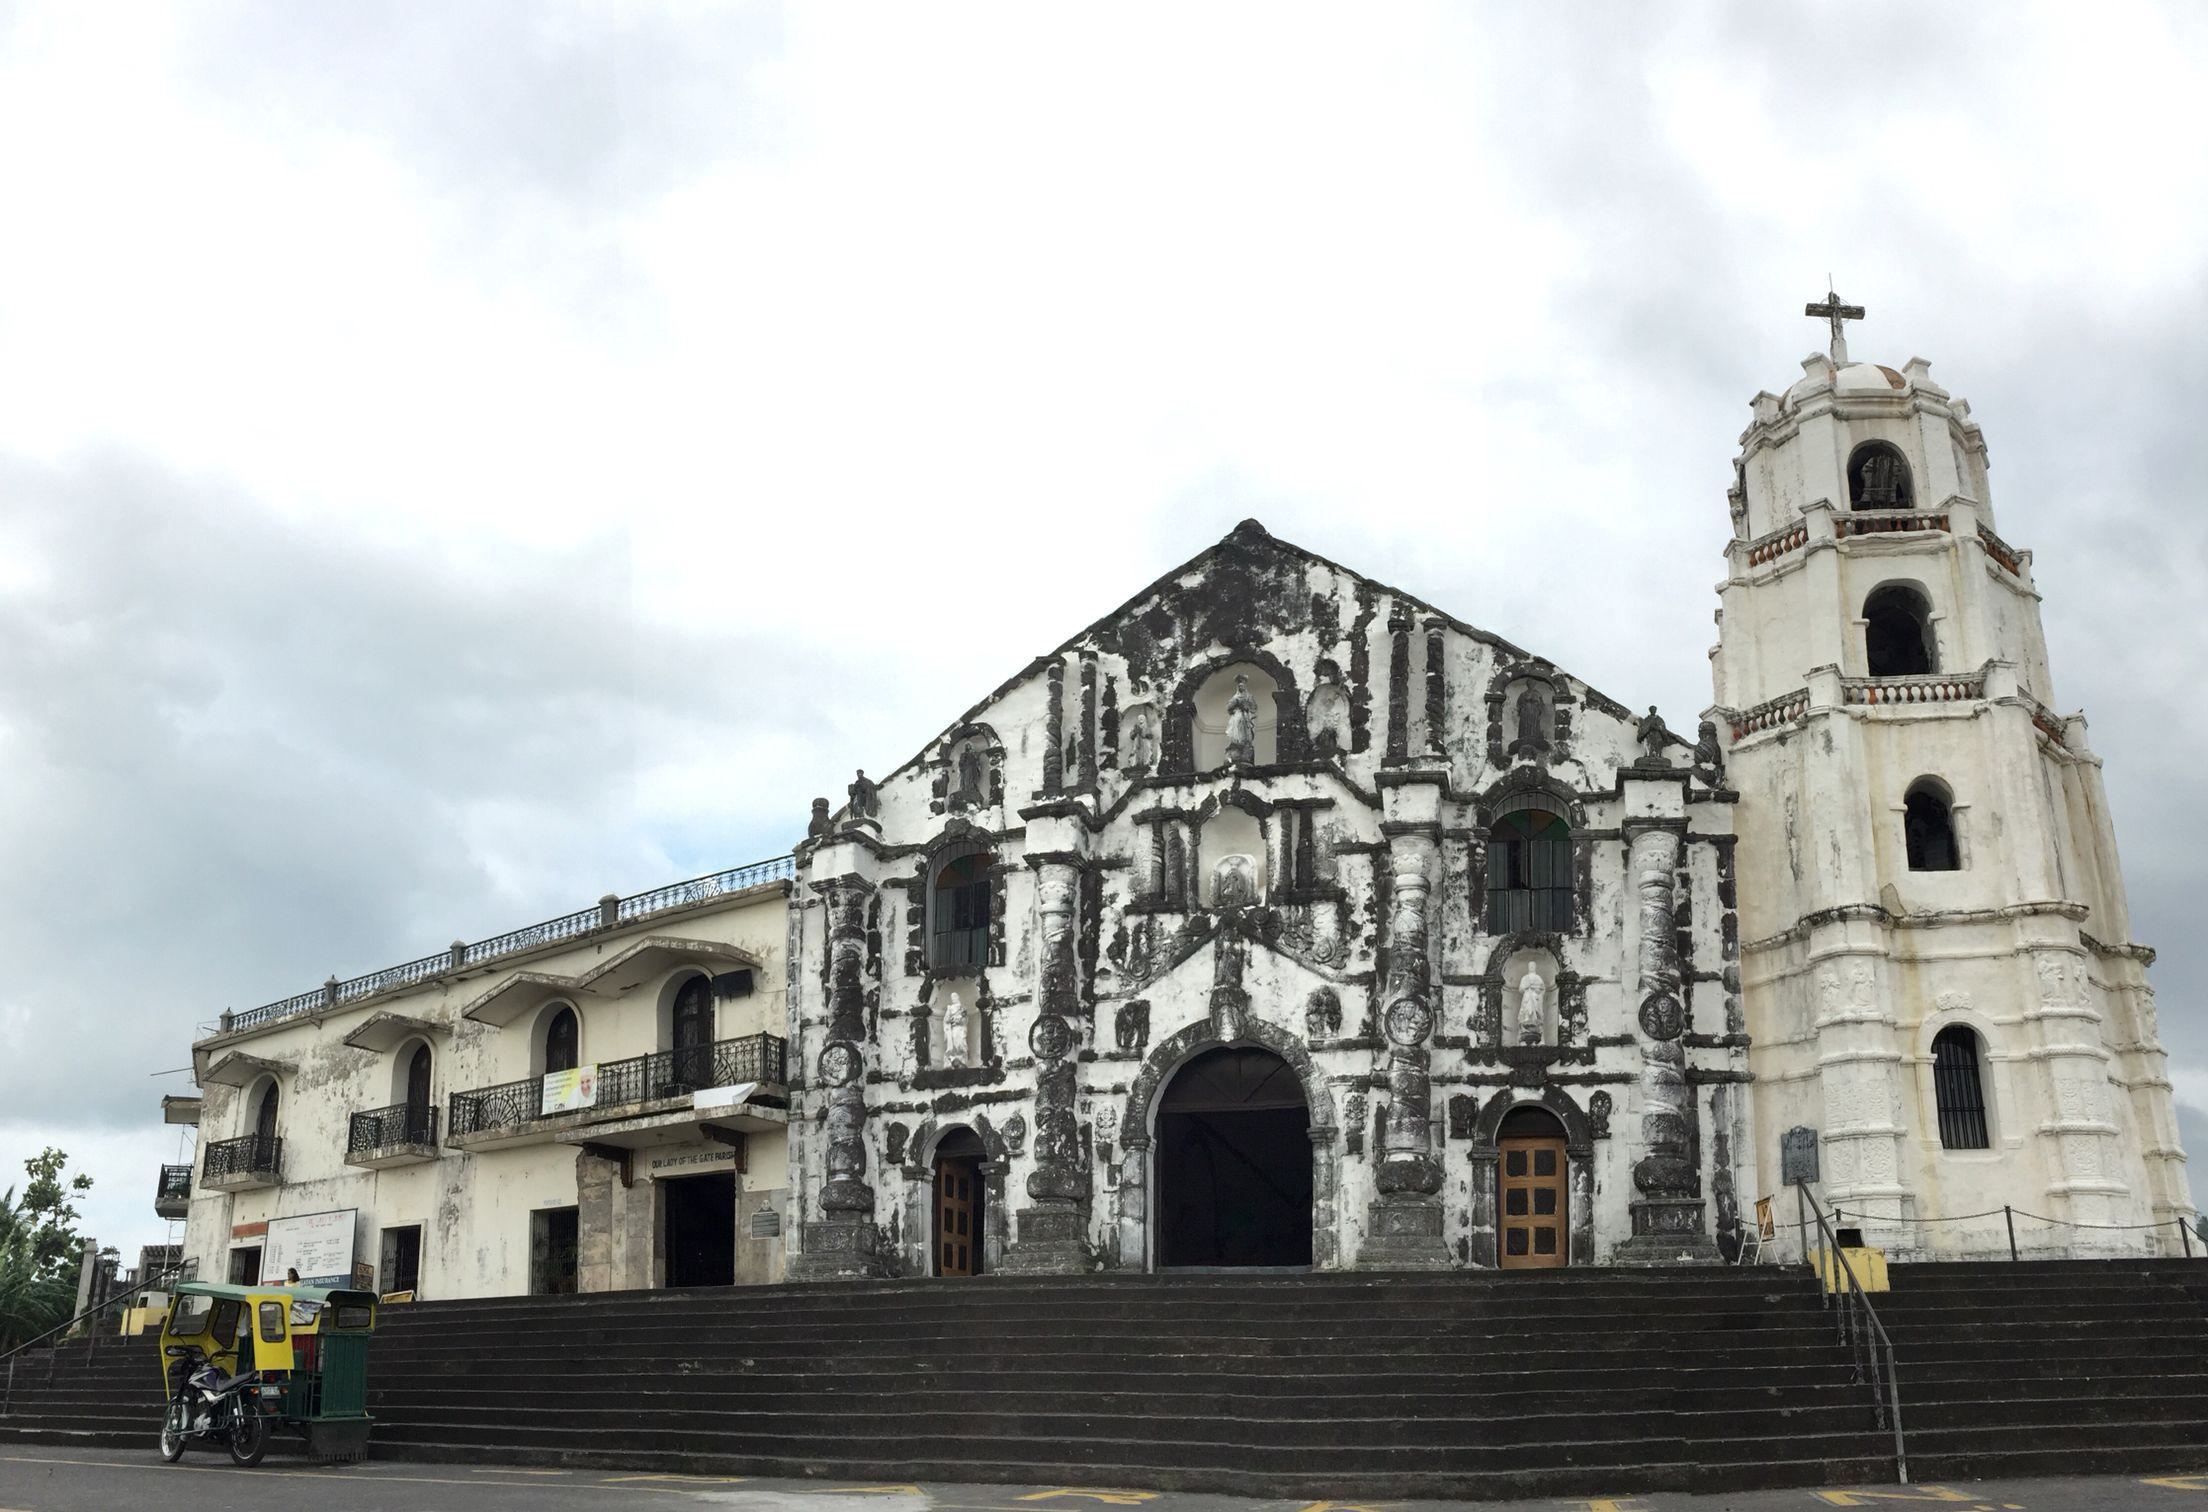daraga_church_daraga_albay: (799, 269, 2195, 1260)
